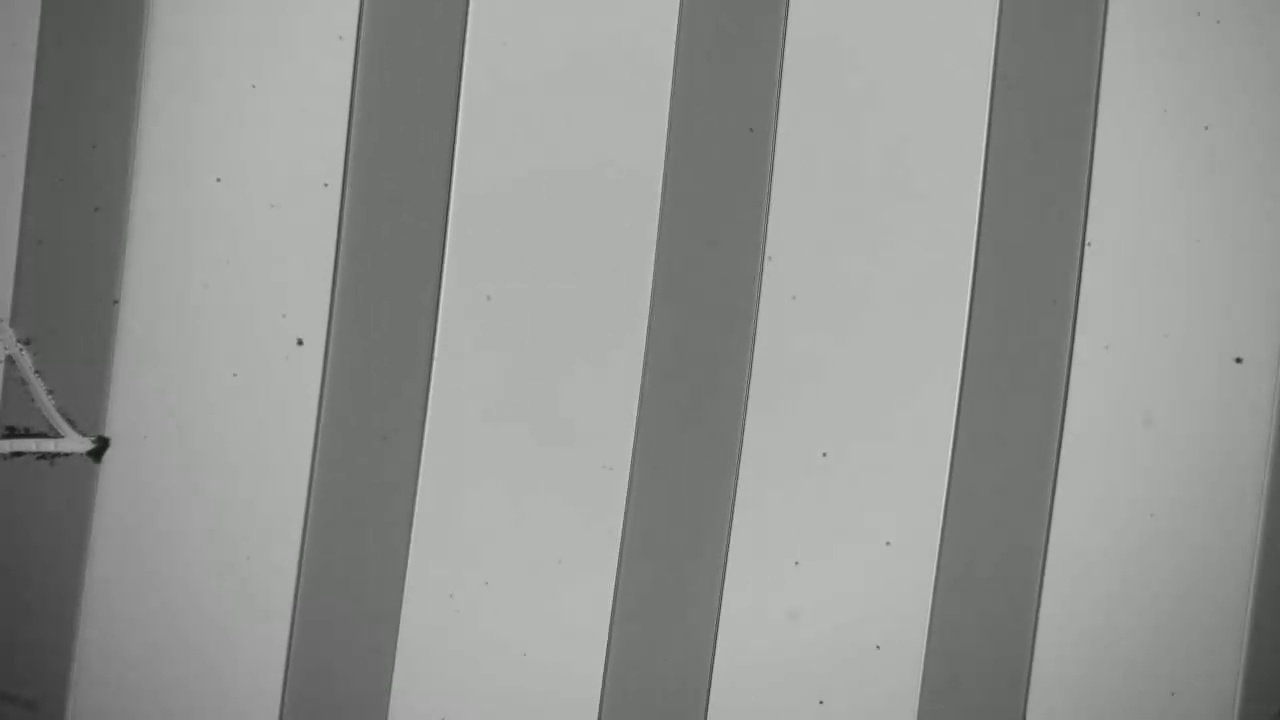Short_circuit: (1, 404, 132, 484)
